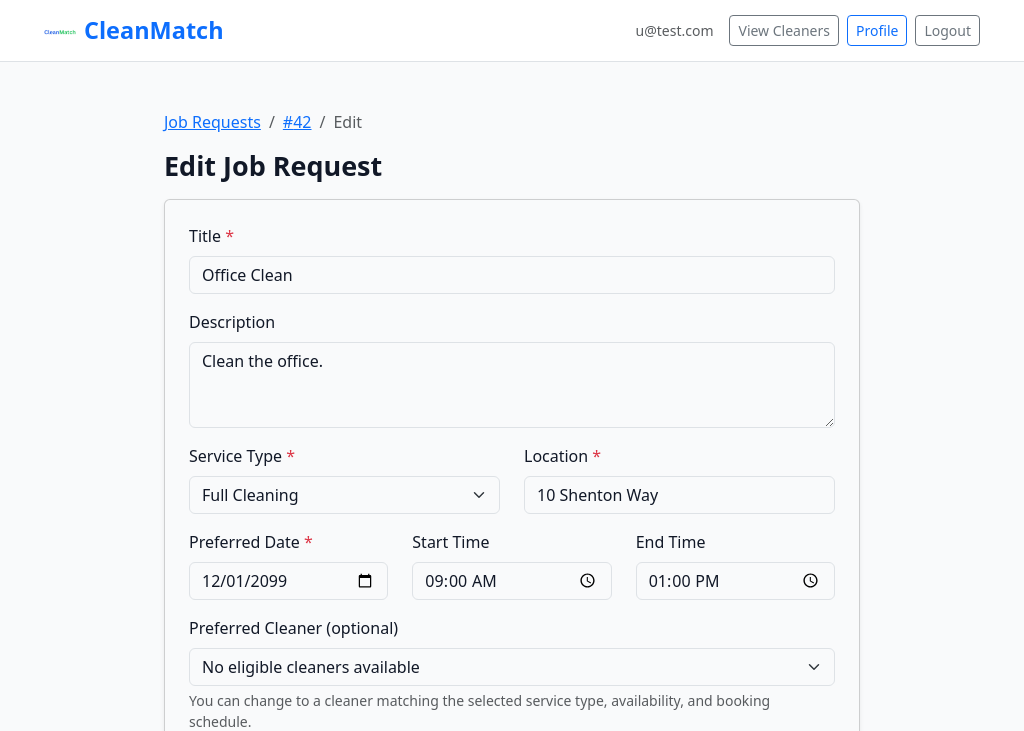
Scenario: EditJobRequestPage › shows end time error when end time is not after start time
The width and height of the screenshot is (1024, 731).
Replace the text in the time field below "Start Time" with "14:00" at (512, 580), box top-left (412, 562), bottom-right (612, 600)
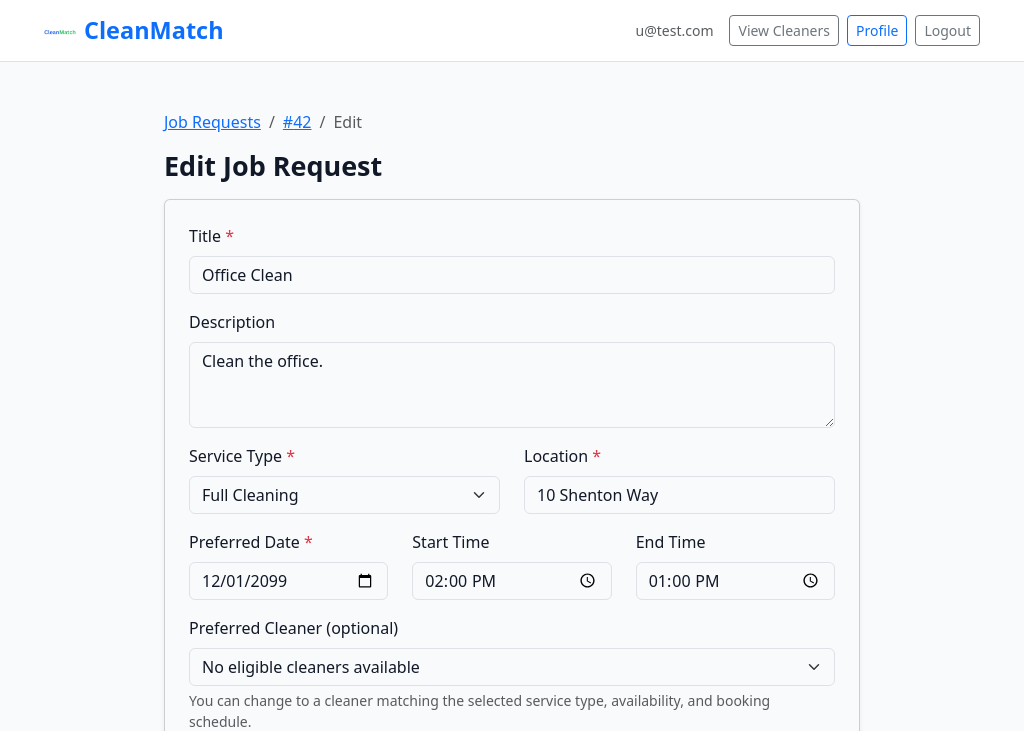
Replace the text in the time field below "End Time" with "10:00" at (735, 580), box top-left (636, 562), bottom-right (835, 600)
(page scrolled)
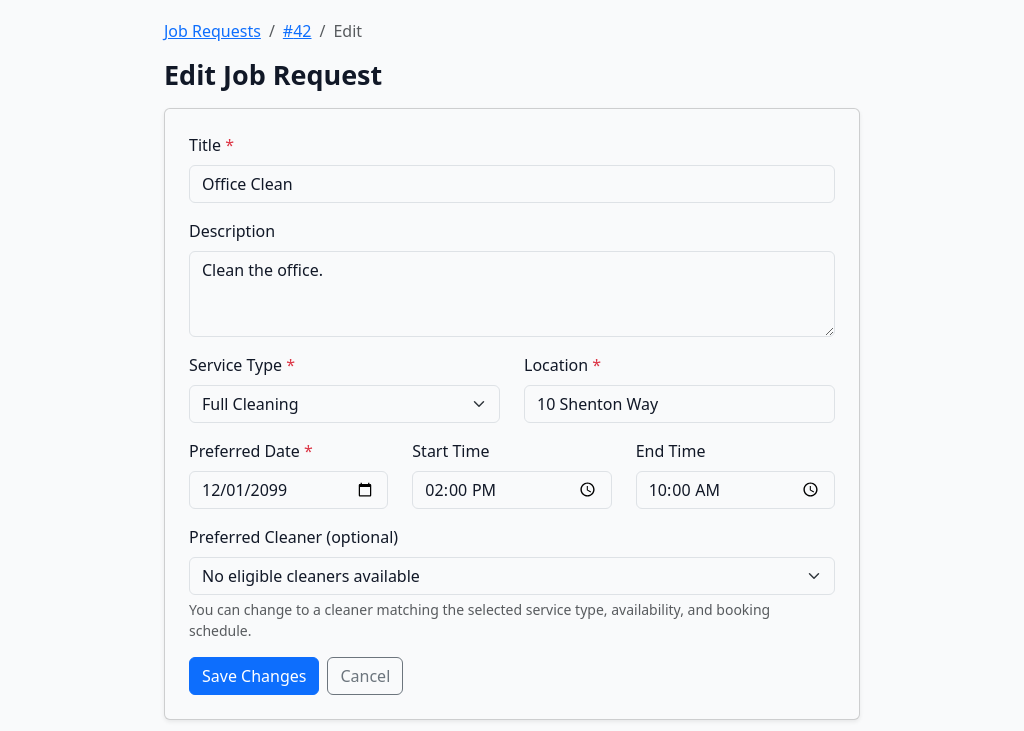
Submit the form, box top-left (164, 108), bottom-right (860, 720)
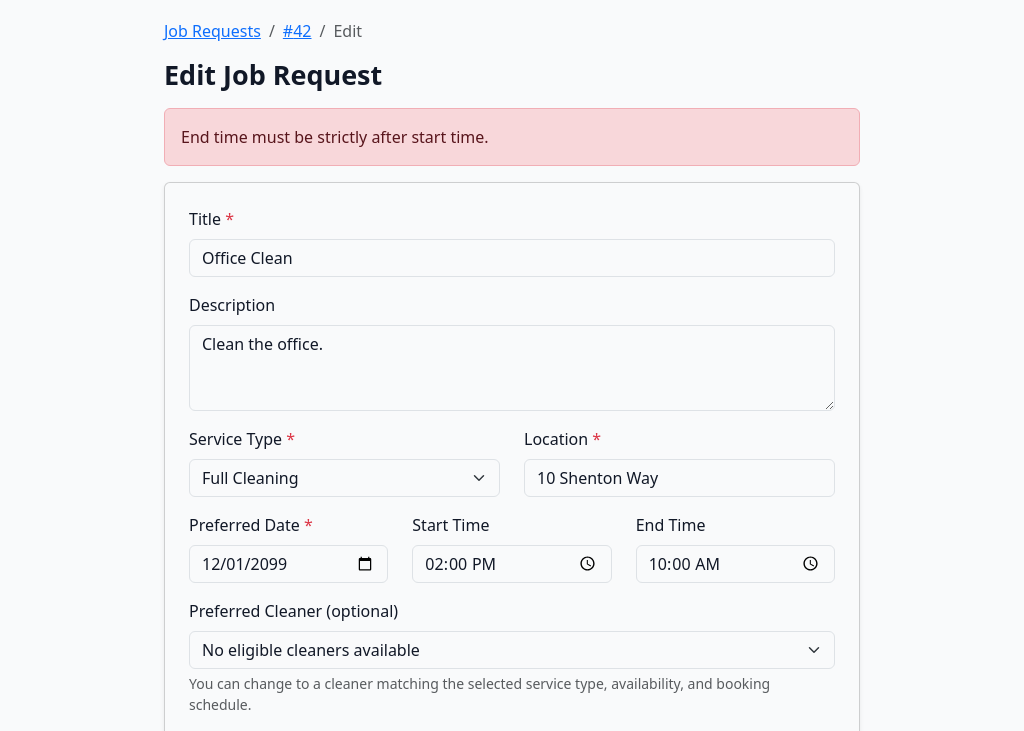
Expected: the text "End time must be strictly after start time." is shown, top-left (164, 108), bottom-right (860, 166)
